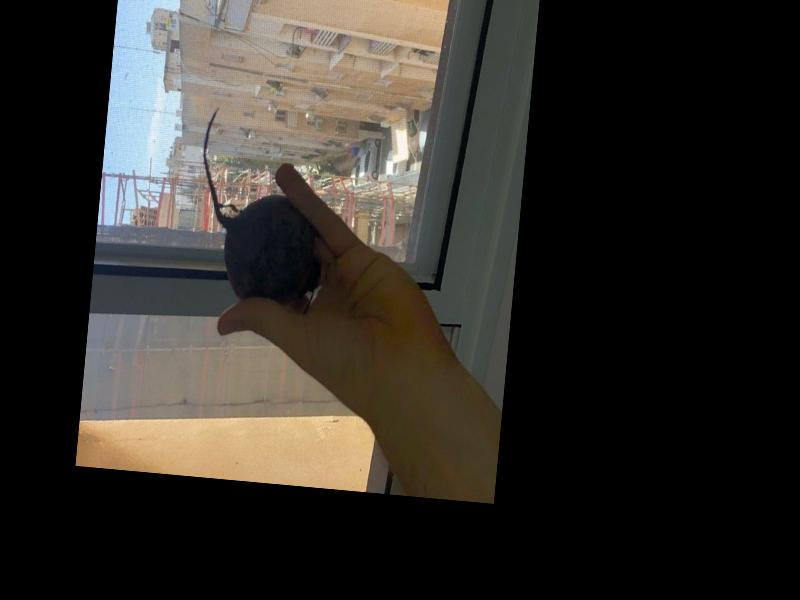Beet: (189, 105, 334, 305)
